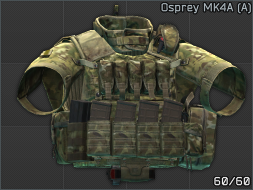CQC Osprey MK4A plate carrier Assault, MTP: (0, 0, 253, 190)
